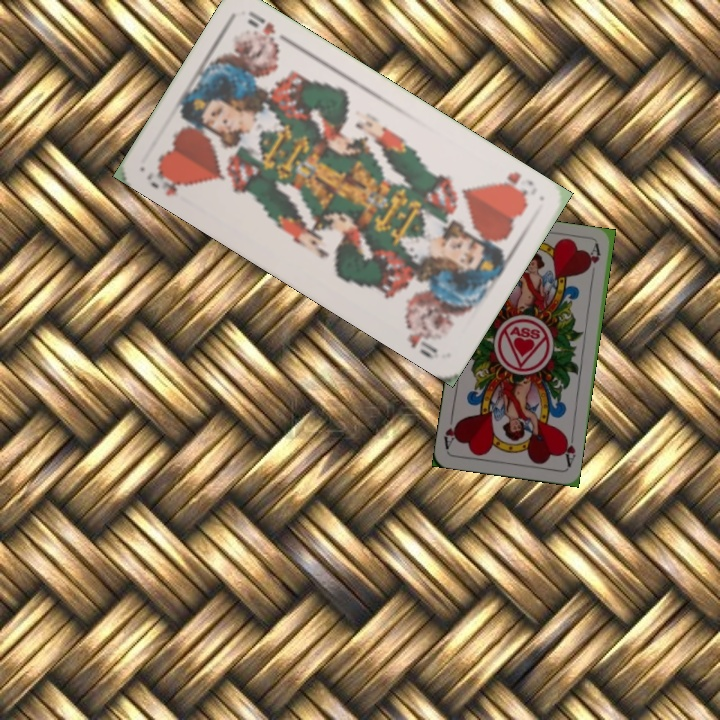HA: (559, 429, 578, 469)
HO: (142, 163, 190, 199), (494, 167, 537, 206)
